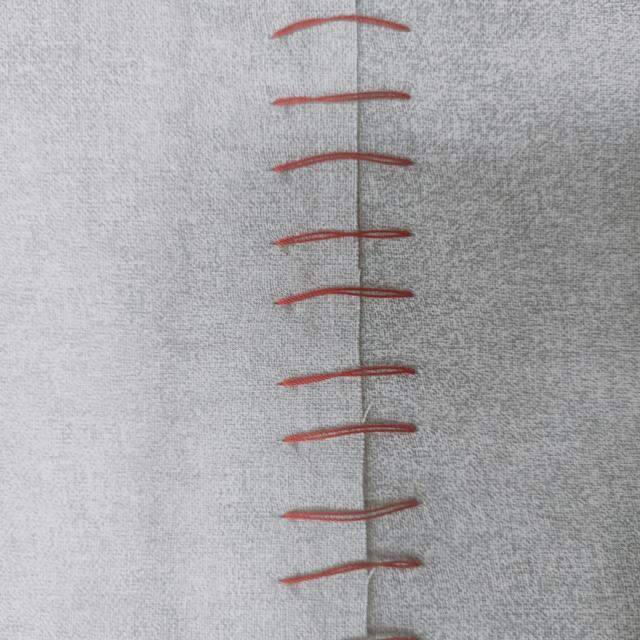gray stitch: (262, 8, 428, 594)
